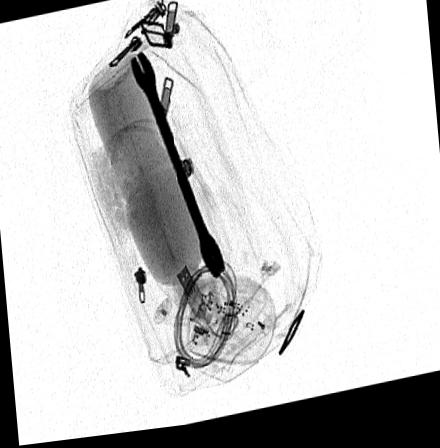Wrench: (129, 50, 227, 287)
